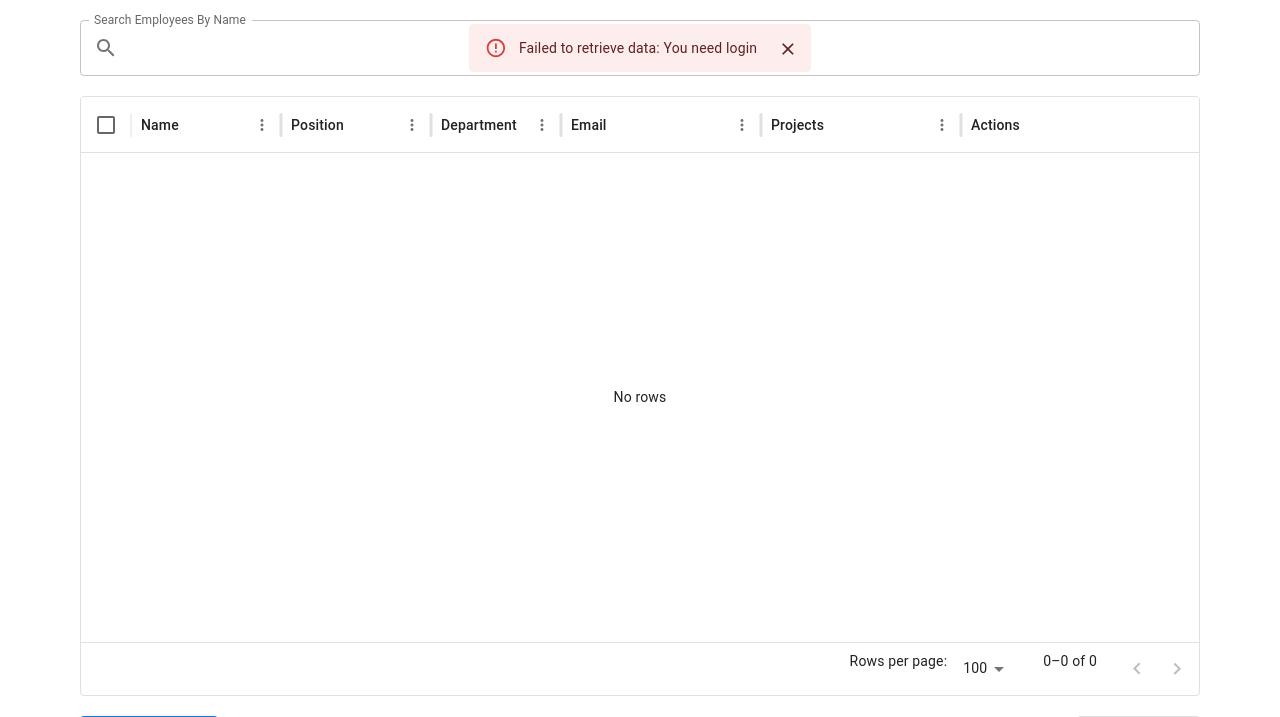
Test: ListEmployeesComponent › closes snackbar when clicking close
This screenshot has width=1280, height=717.
Expected: the message "Failed to retrieve data: You need login" is shown, 469,24 -> 811,72
Click the button named "Close": (788, 49) 773,34 -> 803,64
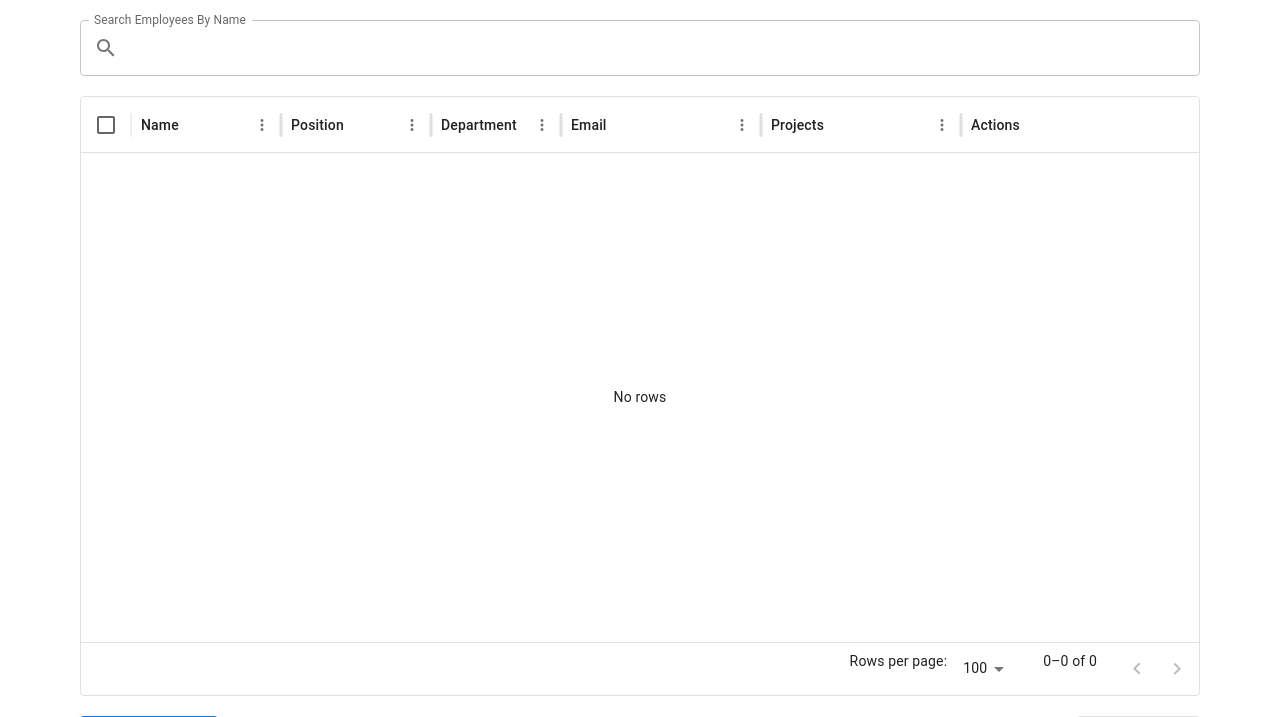
Expected: the message "Failed to retrieve data: You need login" is gone
